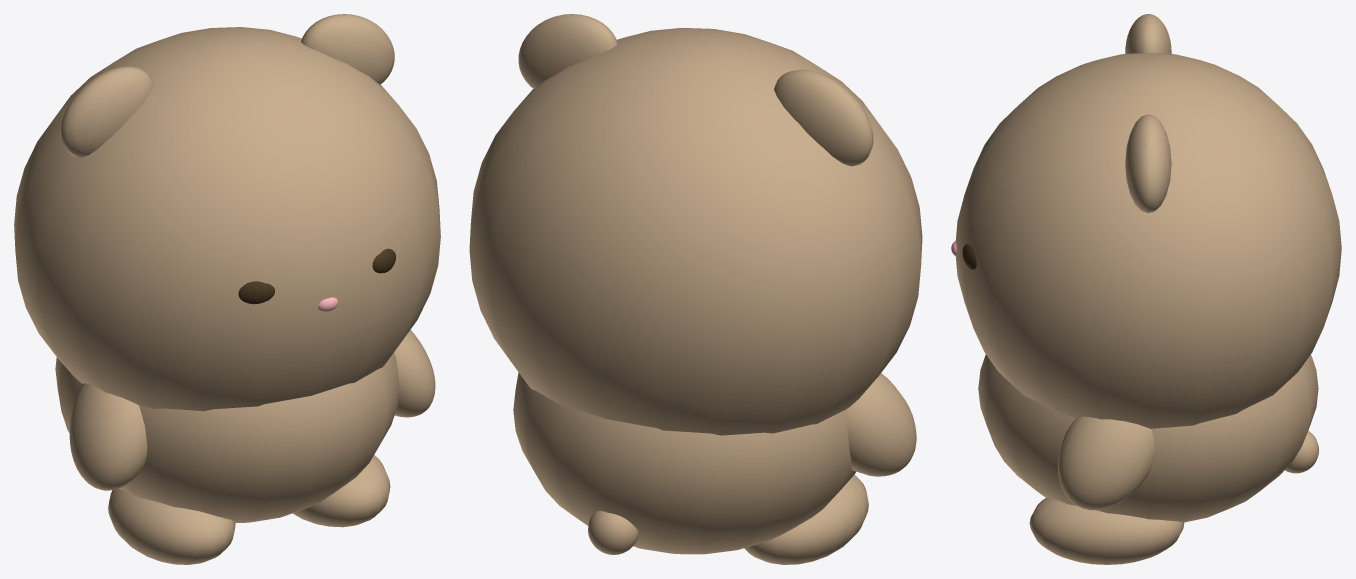
Rendered from FBXtoGLB-bear-ALL.glb.
3 views of the same model, side by side, from view 1: azimuth 30°, elevation 25°; view 2: azimuth 150°, elevation 25°; view 3: azimuth 270°, elevation 25° (orthographic). The views are drawn at different scales.
Parts seen in each view (by area): view 1: head, body, right_ear, left_hand, left_foot, right_foot, right_hand, right_eye1; view 2: head, body, right_ear, left_hand, left_foot, tail; view 3: head, body, right_hand, right_foot, right_ear, tail.
Boxes of the visible parts, x1,y1,x2,y2 form: head: (14, 27, 440, 411); body: (55, 352, 399, 522); right_ear: (60, 14, 394, 157); left_hand: (69, 383, 147, 490); left_foot: (108, 488, 235, 564); right_foot: (293, 455, 390, 527); right_hand: (394, 330, 435, 417); right_eye1: (238, 281, 274, 304); head: (469, 28, 922, 435); body: (513, 372, 855, 554); right_ear: (518, 14, 873, 166); left_hand: (846, 373, 916, 476); left_foot: (744, 475, 868, 564); tail: (588, 510, 638, 554); head: (955, 53, 1341, 428); body: (978, 354, 1318, 522); right_hand: (1058, 416, 1154, 510); right_foot: (1029, 498, 1184, 564); right_ear: (1125, 14, 1171, 213); tail: (1284, 431, 1319, 473).
Bounding box in the file's own units: 0.054 × 0.0646 × 0.0505.
